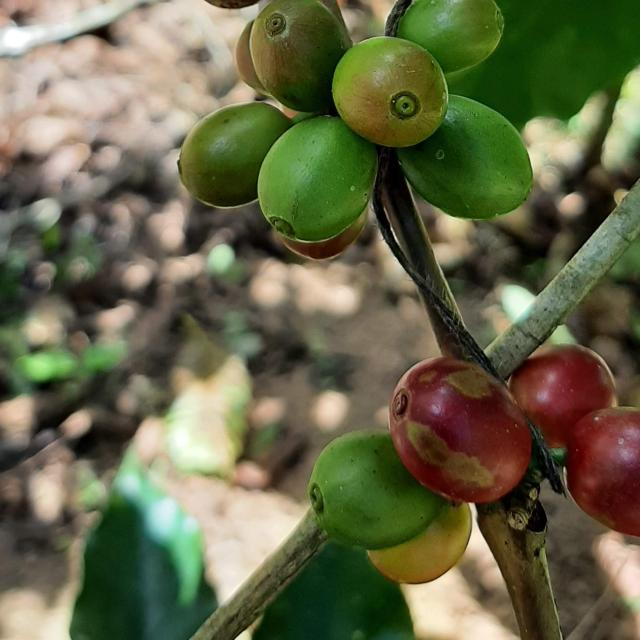green: (308, 431, 450, 551), (397, 94, 533, 219), (257, 115, 377, 242), (178, 101, 292, 207), (398, 0, 505, 73)
red: (390, 358, 532, 504), (510, 344, 619, 449), (567, 407, 640, 537)
yellow: (332, 35, 449, 147), (249, 0, 352, 111), (368, 504, 472, 585), (278, 207, 368, 260), (235, 19, 270, 95)
